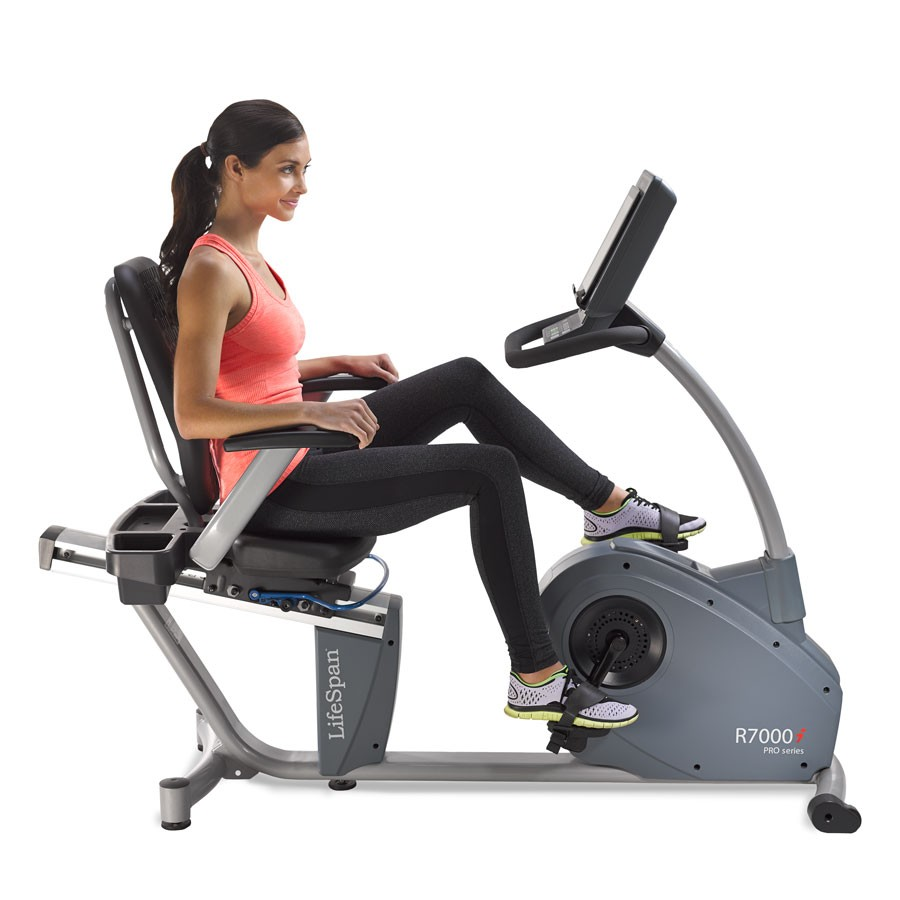gym_bike: (52, 191, 884, 837)
